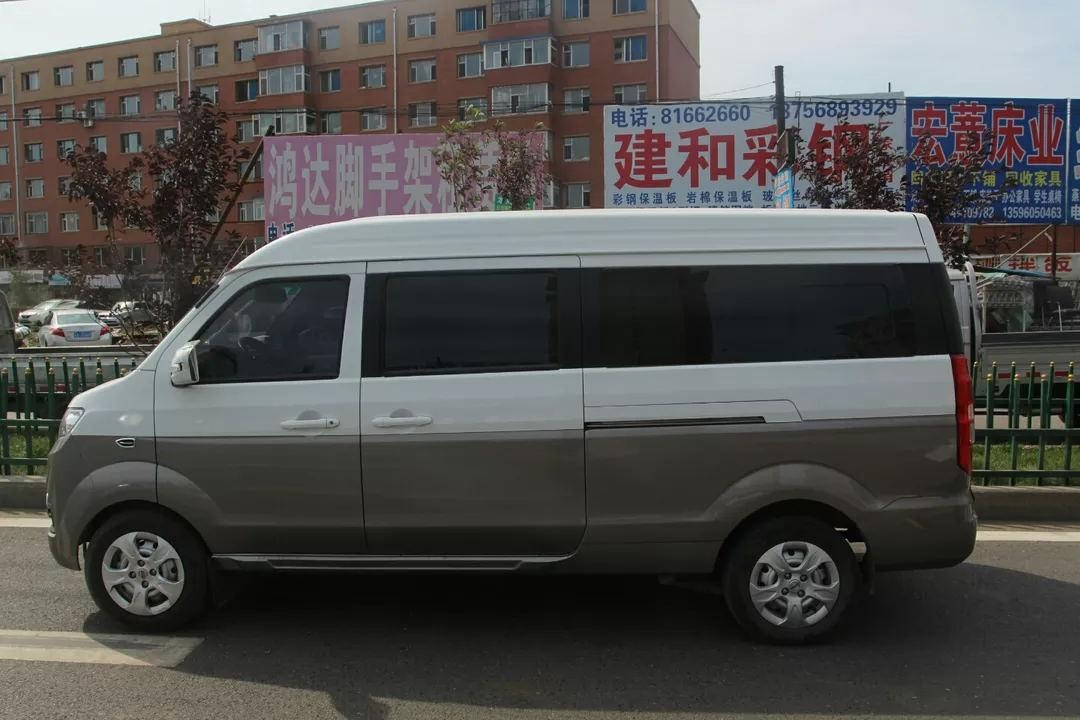minibus: (57, 212, 975, 641)
